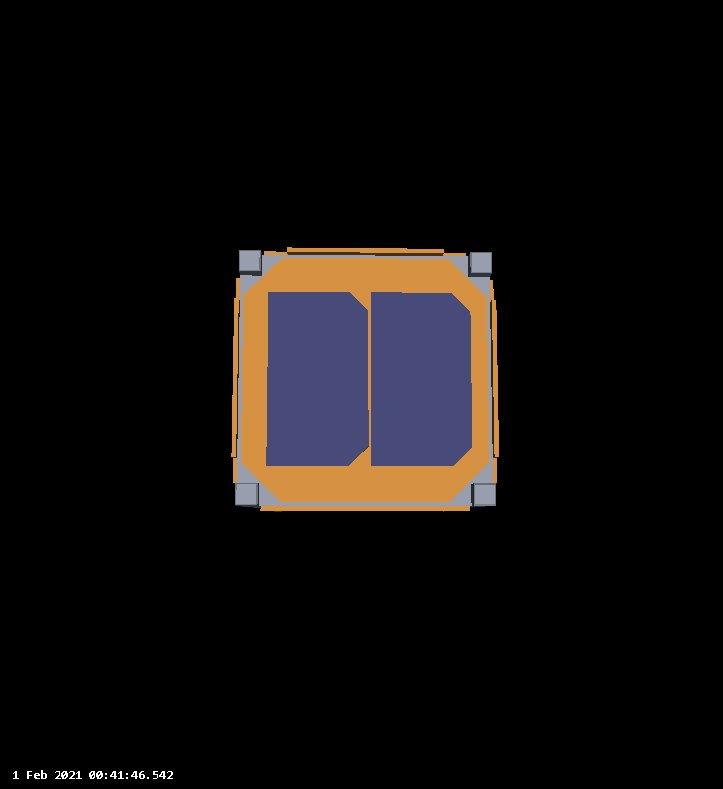body: (228, 243, 503, 515)
solar: (264, 288, 478, 470)
